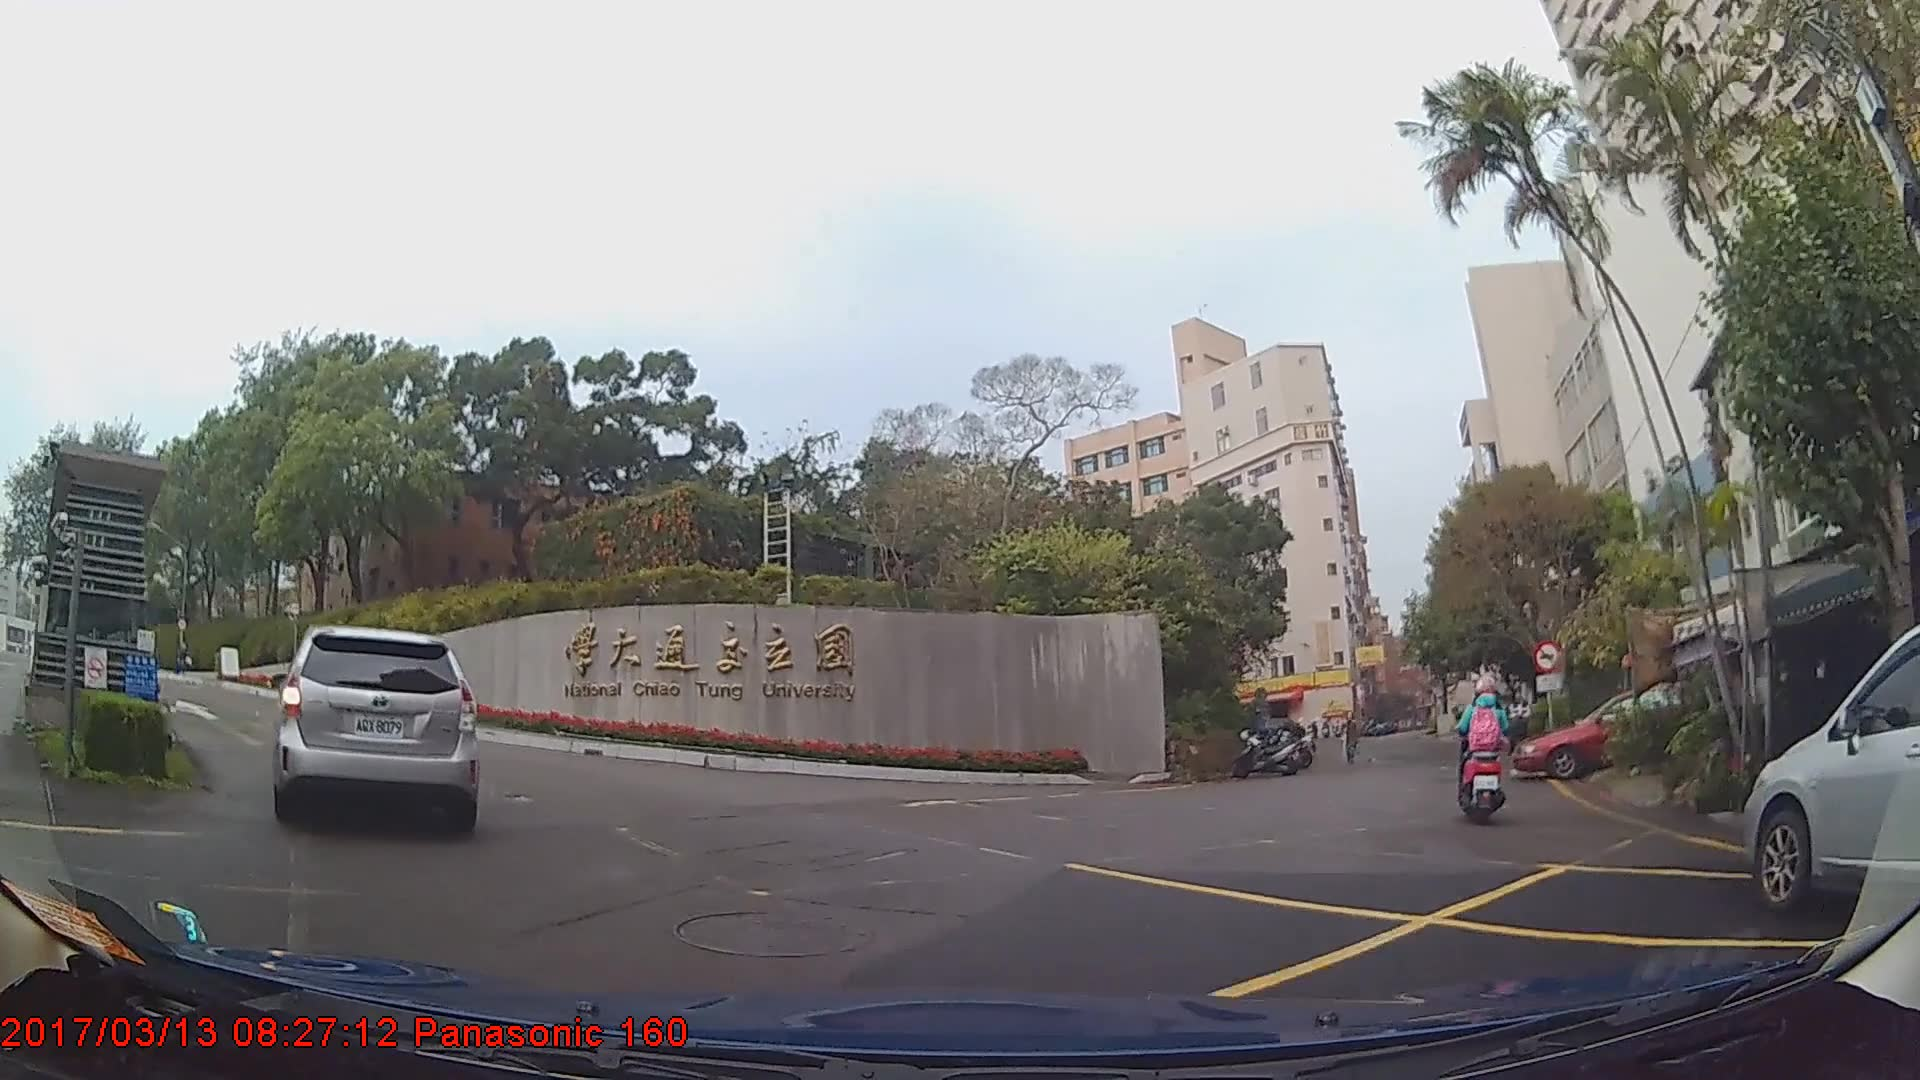pedestrian: (1341, 711, 1363, 767)
rider: (1455, 665, 1510, 824)
vehicle: (1741, 624, 1920, 910), (269, 624, 477, 835), (1514, 685, 1711, 779)
